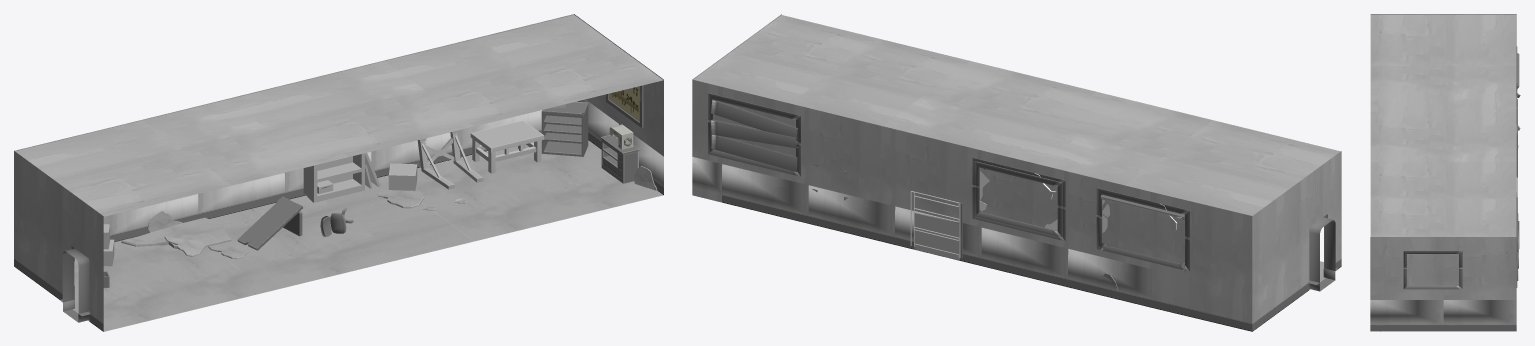
File: MSH_QuestRedRocket_L1_R3_optimized.fbx
The picture shows the model from 3 angles, left to right: view 1: azimuth 30°, elevation 25°; view 2: azimuth 150°, elevation 25°; view 3: azimuth 270°, elevation 25°; orthographic projection. The views are drawn at different scales.
Visible parts, largest first — view 1: lightmap0; view 2: lightmap0, MSH_QuestRedRocket_L1_R3_windows_03; view 3: lightmap0.
Part boxes in pixels (box(x1,y1,x2,y2)): lightmap0: box(14, 14, 663, 331); lightmap0: box(692, 14, 1341, 331); MSH_QuestRedRocket_L1_R3_windows_03: box(979, 168, 1177, 233); lightmap0: box(1370, 14, 1520, 331).
Bounding box in the file's own units: 30.49 × 6 × 8.51.
